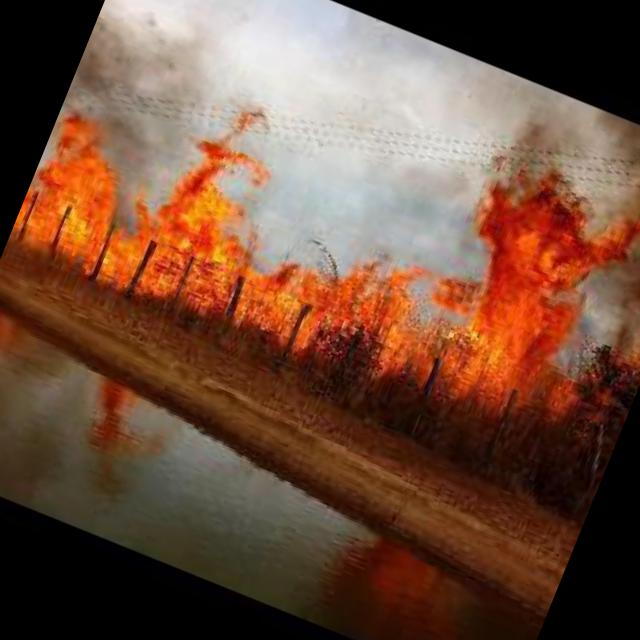fire: (4, 0, 640, 486)
smoke: (58, 0, 270, 167)
